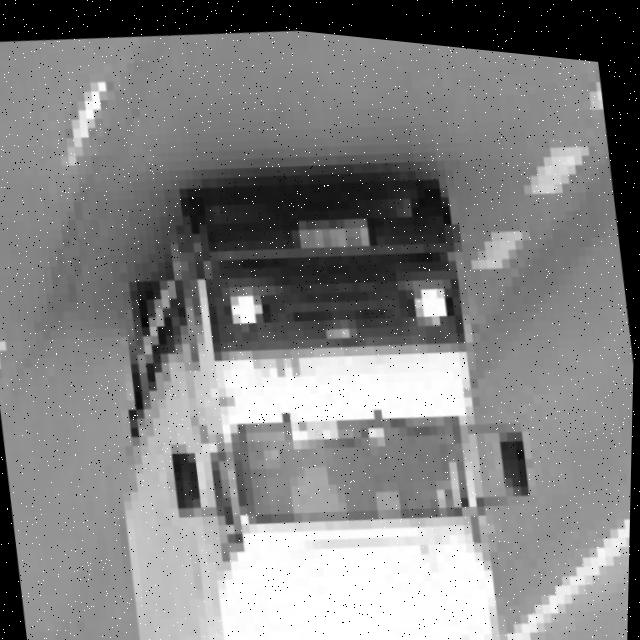truck: (113, 96, 559, 594)
